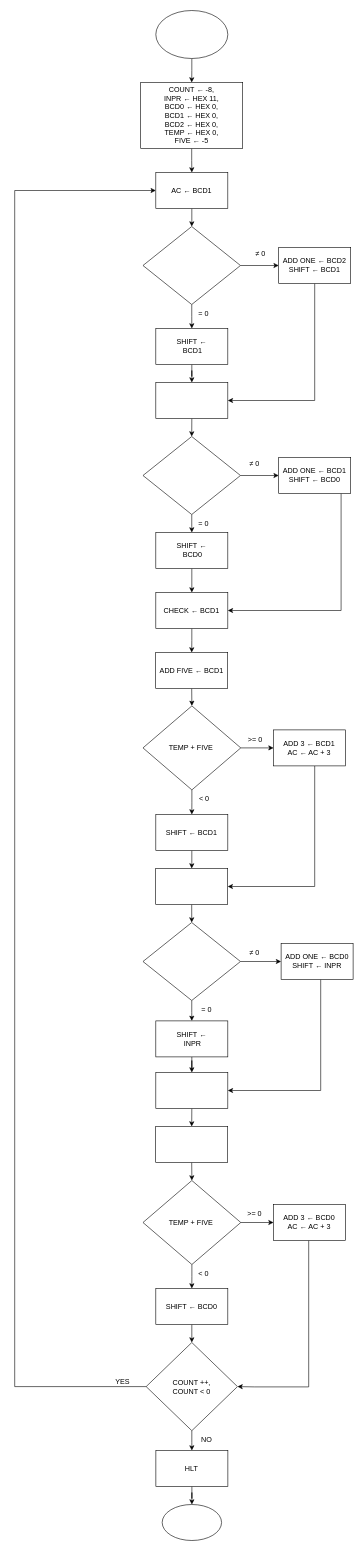
This 364x1551 diagram has some shape labels left out. Here are the shapes that lost their labels. From the top down, the box of each, then its label:
(155, 10, 228, 58): START
(142, 226, 240, 304): SZA ← BCD1 if (AC = 0) PC ← PC + 1
(155, 382, 228, 418): AC ← BCD0
(142, 436, 240, 514): SZA ← BCD0 if (AC = 0) PC ← PC + 1
(155, 868, 228, 904): AC ← INPR
(142, 922, 240, 1000): SZA ← INPR if (AC = 0) PC ← PC + 1
(155, 1072, 228, 1108): CHECK ← BCD0
(155, 1126, 228, 1162): ADD FIVE ← BCD0
(162, 1504, 222, 1540): END
